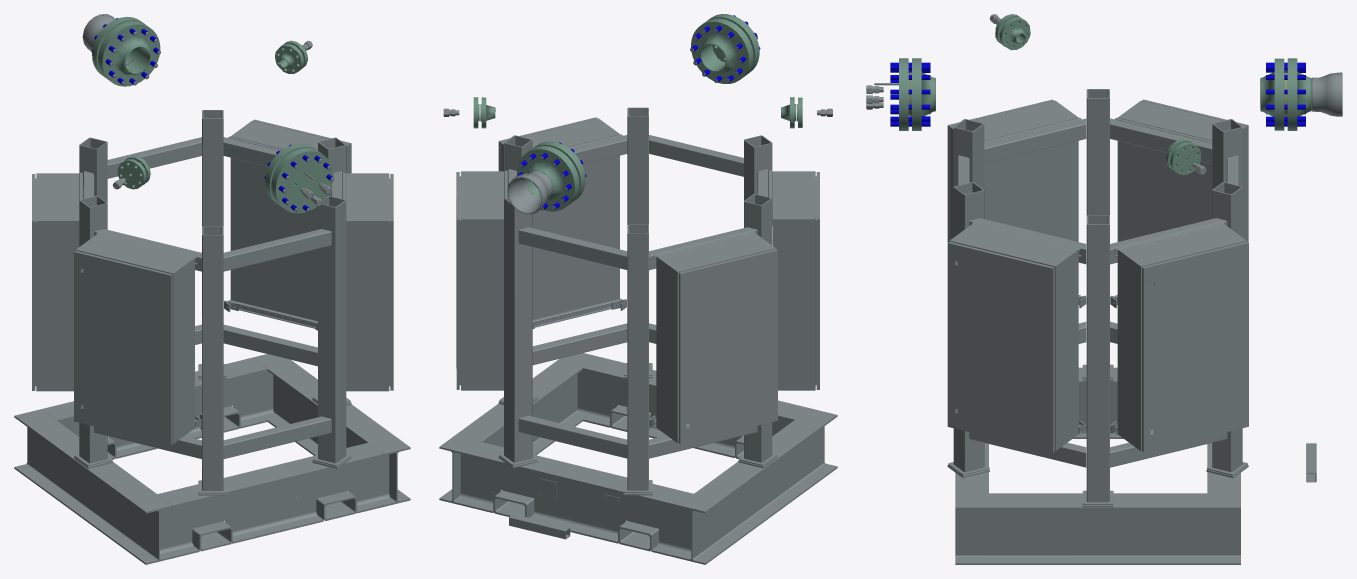
Rendered from standalone.glb.
The picture shows the model from 3 angles, left to right: view 1: azimuth 30°, elevation 25°; view 2: azimuth 150°, elevation 25°; view 3: azimuth 270°, elevation 25°; orthographic projection. The views are drawn at different scales.
Parts seen in each view (by area): view 1: standalone; view 2: standalone; view 3: standalone.
Part boxes in pixels (box(x1,y1,x2,y2)): standalone: box(14, 14, 410, 564); standalone: box(439, 14, 837, 564); standalone: box(866, 14, 1342, 564).
Size of the model in its own units: 1.96 by 2.34 by 2.34.
